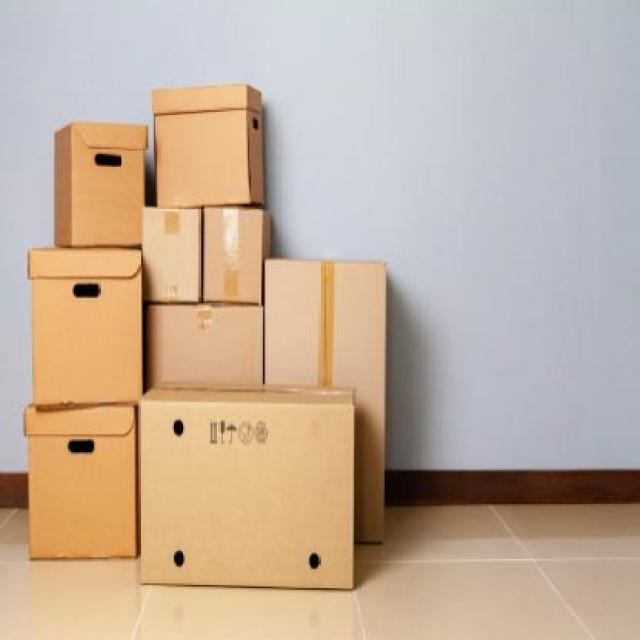box: (136, 390, 362, 596), (267, 253, 390, 541), (21, 398, 138, 584), (19, 240, 146, 398), (152, 80, 266, 204), (146, 305, 266, 401), (51, 118, 146, 238), (203, 210, 266, 310), (144, 208, 201, 302)
